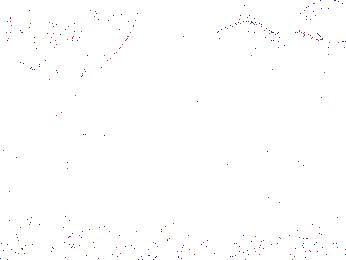moon jellyfish: (48, 1, 140, 74), (9, 1, 94, 48), (208, 21, 289, 58), (1, 24, 36, 100), (295, 1, 346, 49)
